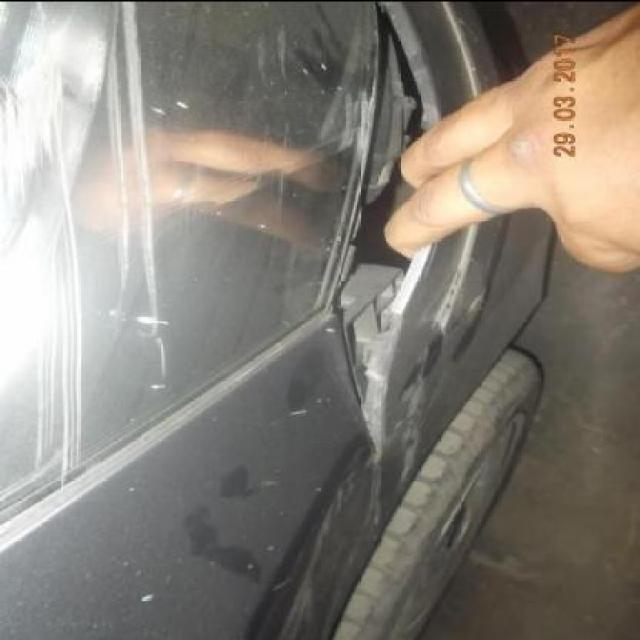damage: (330, 0, 428, 468), (0, 0, 83, 499), (105, 0, 172, 394)
